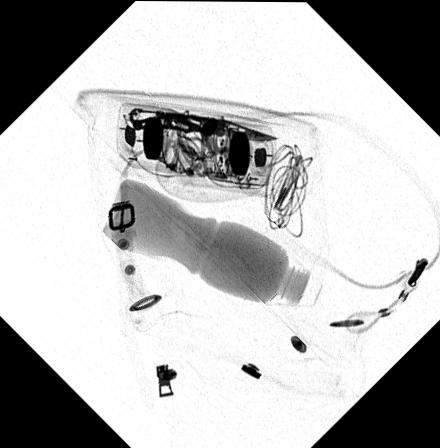Knife: (126, 105, 279, 141)
